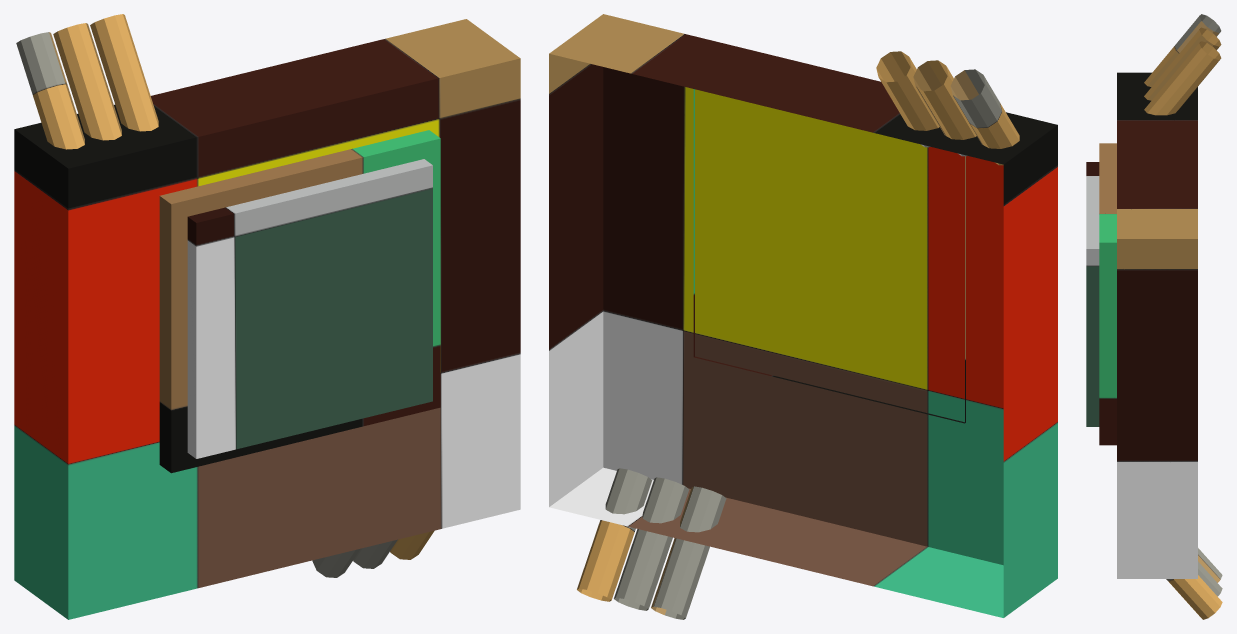
Rendered from New Fuse Box Week 2.fbx.
The picture shows the model from 3 angles, left to right: view 1: azimuth 30°, elevation 25°; view 2: azimuth 150°, elevation 25°; view 3: azimuth 270°, elevation 25°; orthographic projection. The views are drawn at different scales.
Visible parts, largest first — view 1: group8_pasted__pCylinder1; view 2: group8_pasted__pCylinder1; view 3: group8_pasted__pCylinder1.
Part boxes in pixels (<box>): group8_pasted__pCylinder1: <box>14,14,520,619</box>; group8_pasted__pCylinder1: <box>549,14,1057,619</box>; group8_pasted__pCylinder1: <box>1086,14,1222,619</box>.
Size of the model in its own units: 35.65 by 46.55 by 12.35.
